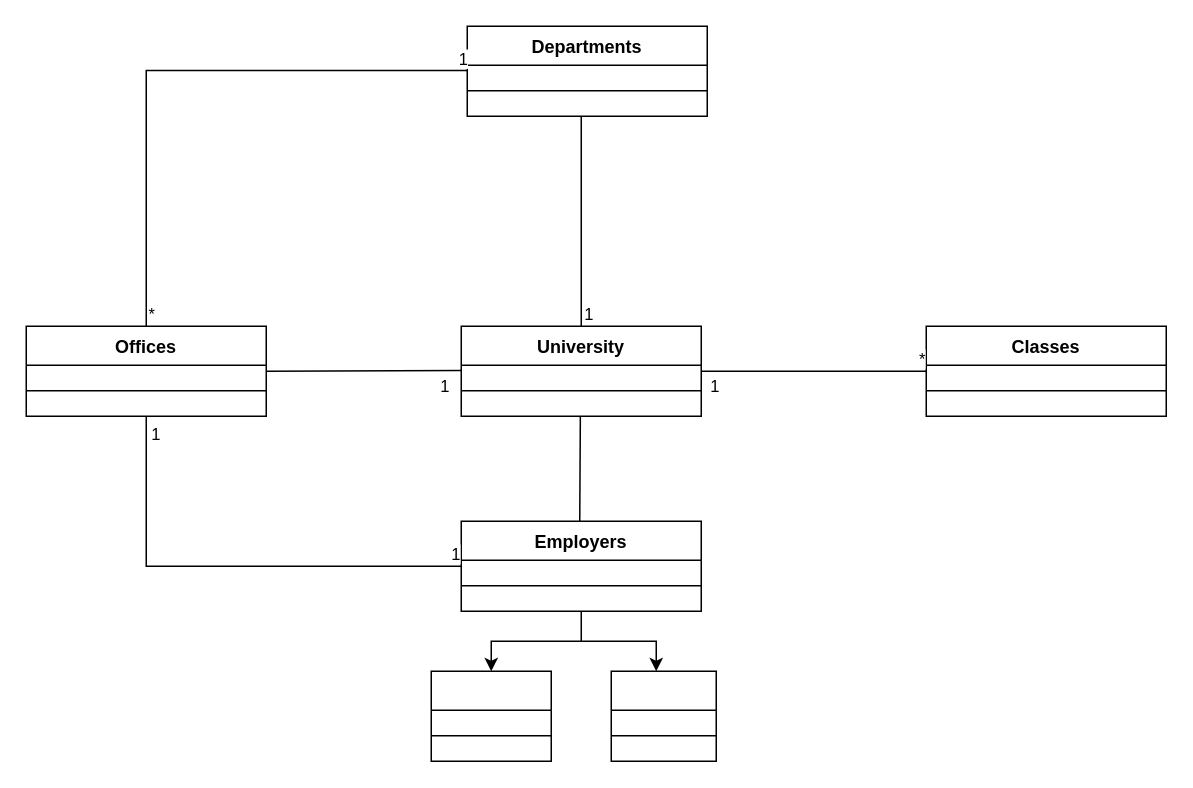
The diagram is 1193 pixels wide and 788 high, and some of its shapes have lost their labels. The shapes that lost their labels are listed below. From the top down, each one's centre as x and y in pixels, then its label:
At (490,715): "Profs".
At (663,715): "Officers".
